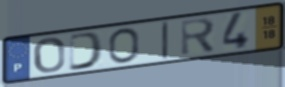4: (221, 11, 252, 53)
D: (67, 30, 106, 72)
I: (160, 20, 171, 62)
O: (32, 36, 67, 74), (107, 27, 142, 65)
R: (179, 16, 218, 58)
